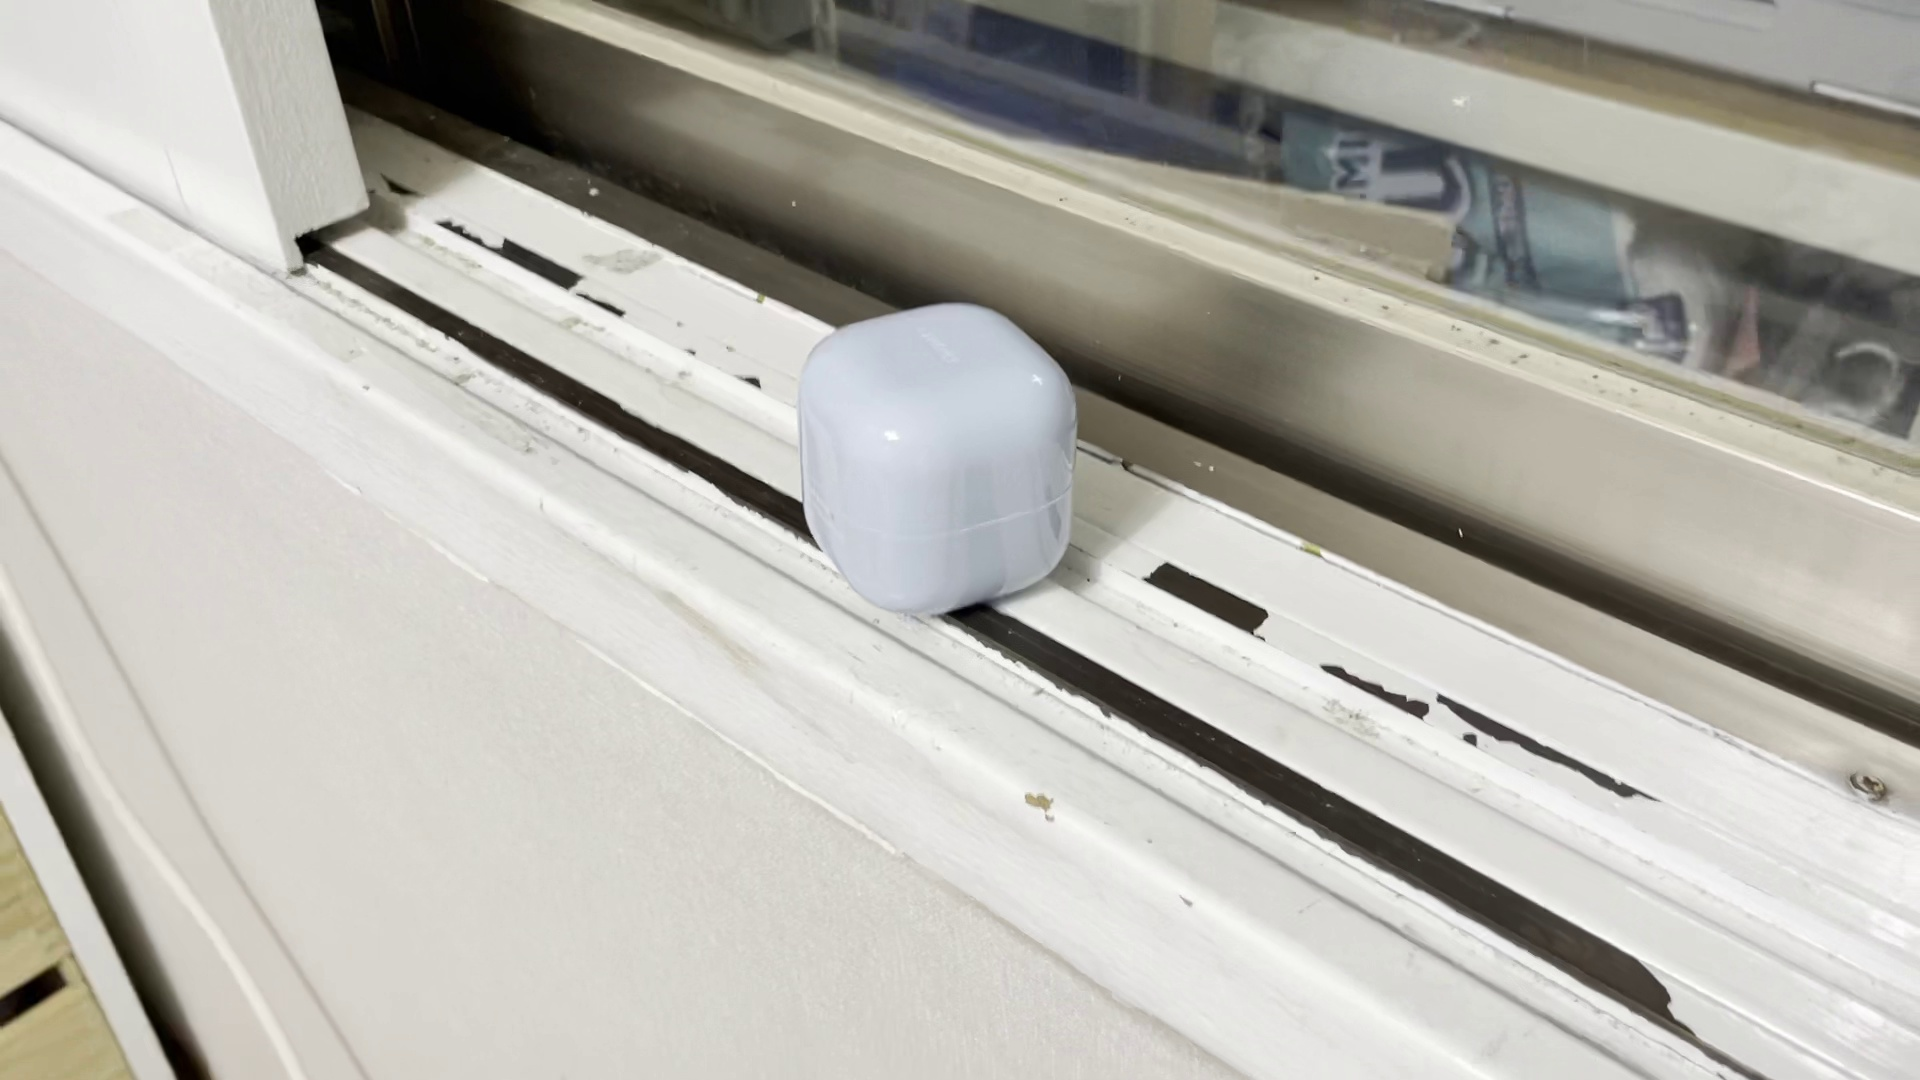cream: (796, 305, 1081, 611)
